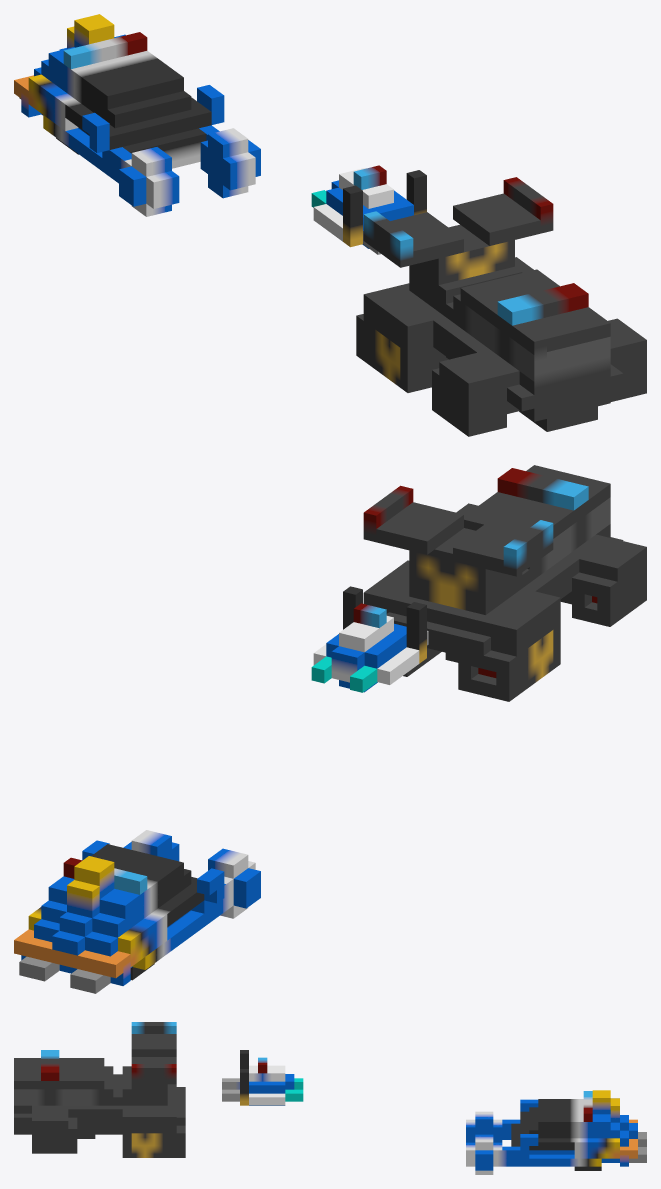
File: police_ships_2.dae
3 views of the same model, one above another, from view 1: azimuth 30°, elevation 25°; view 2: azimuth 150°, elevation 25°; view 3: azimuth 270°, elevation 25° (orthographic). The views are drawn at different scales.
Visible parts, largest first — view 1: swat_ship_1, police_ship_1, police_drone_1; view 2: swat_ship_1, police_ship_1, police_drone_1; view 3: swat_ship_1, police_ship_1, police_drone_1.
Part boxes in pixels (x1,y1,x2,y2): swat_ship_1: (356,177,646,436); police_ship_1: (14,14,260,216); police_drone_1: (311,165,426,254); swat_ship_1: (363,465,646,701); police_ship_1: (14,830,260,993); police_drone_1: (311,586,428,692); swat_ship_1: (14,1022,185,1157); police_ship_1: (466,1090,646,1174); police_drone_1: (222,1050,303,1105).
Size of the model in its own units: 14 by 14 by 70.
Materials: 1 (1 with a texture image).
